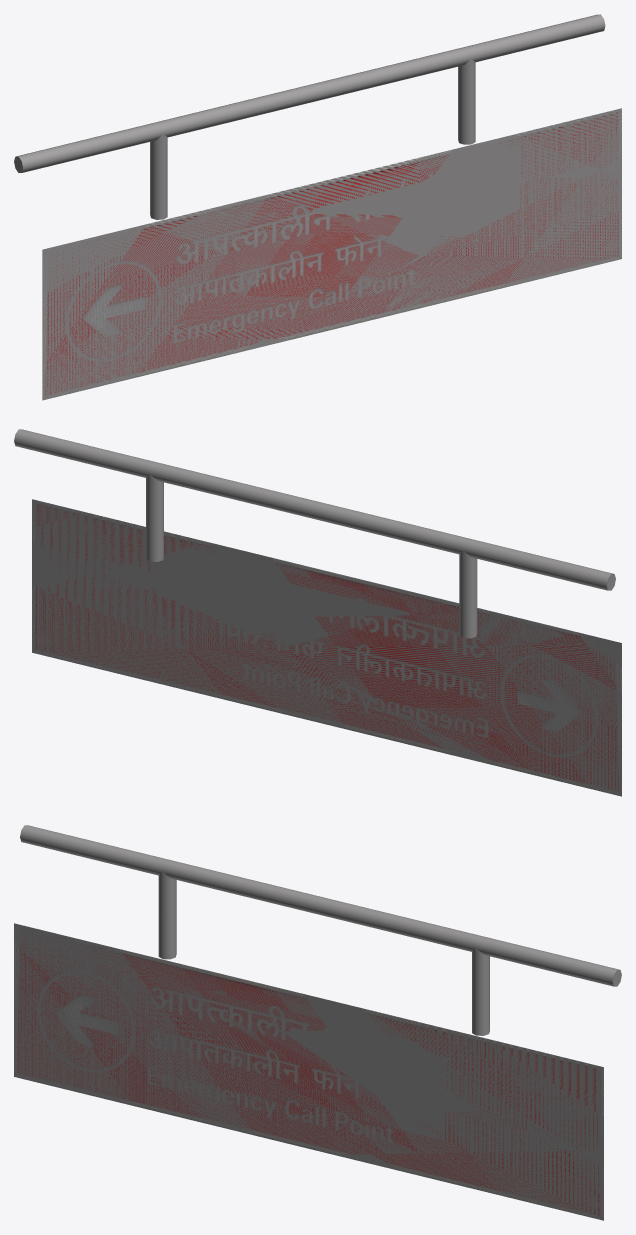
The model's file is board_02.fbx.
3 views of the same model, one above another, from view 1: azimuth 30°, elevation 25°; view 2: azimuth 150°, elevation 25°; view 3: azimuth 330°, elevation 25° (orthographic).
Parts seen in each view (by area): view 1: board_02; view 2: board_02; view 3: board_02.
Boxes of the visible parts, bbox=[...] form: board_02: bbox=[14, 14, 621, 400]; board_02: bbox=[14, 429, 621, 796]; board_02: bbox=[14, 825, 621, 1220].
Size of the model in its own units: 184 by 70.01 by 11.83.
1 material, 1 textured.
